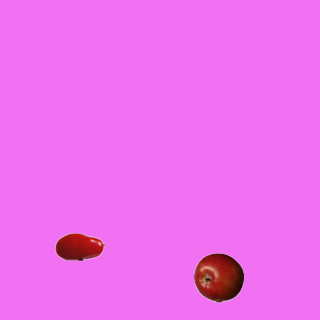Apple Braeburn: (193, 252, 243, 302)
Tomato 2: (54, 221, 104, 271)
